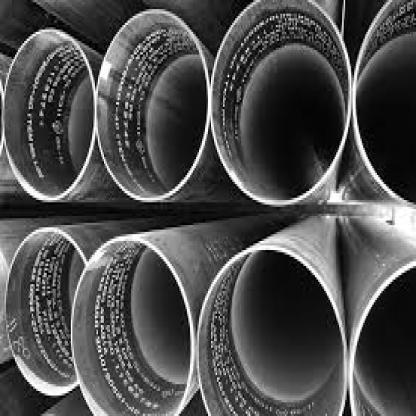pipe: (209, 0, 356, 210), (193, 244, 347, 416), (68, 236, 196, 416), (94, 6, 209, 206), (0, 27, 96, 204), (4, 226, 87, 400), (356, 0, 416, 209), (352, 257, 416, 416)
